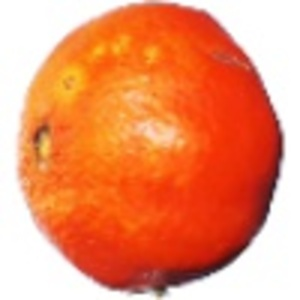tangerina: (14, 1, 287, 300)
